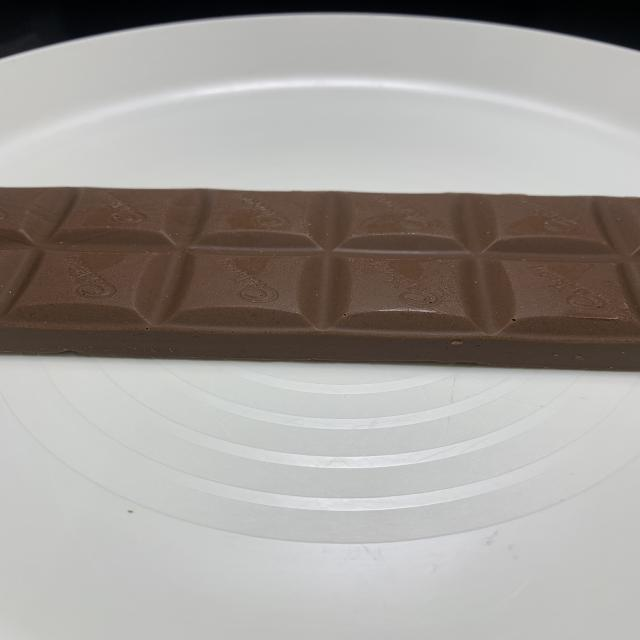Chocolate: (0, 184, 640, 373)
